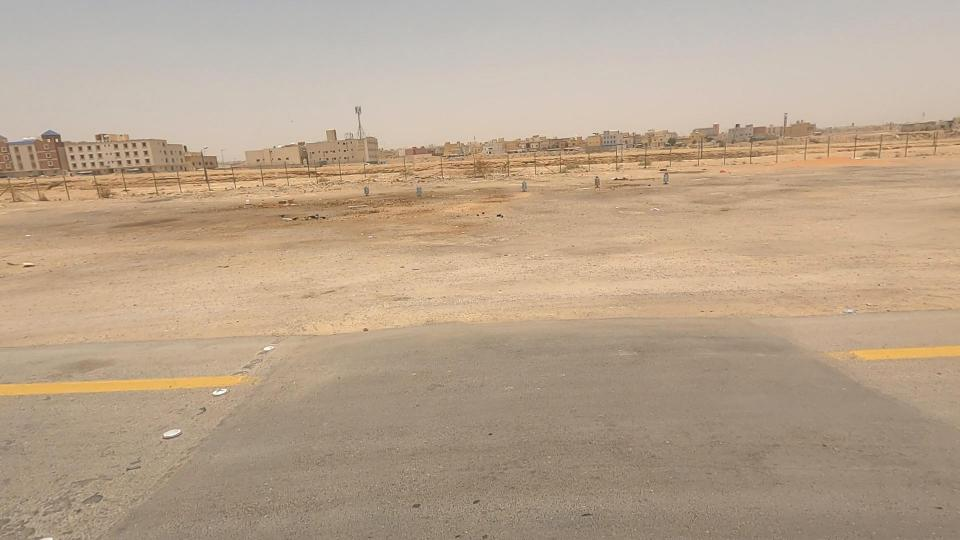GARBAGE: (245, 196, 357, 242), (636, 189, 674, 229), (228, 185, 266, 218)
